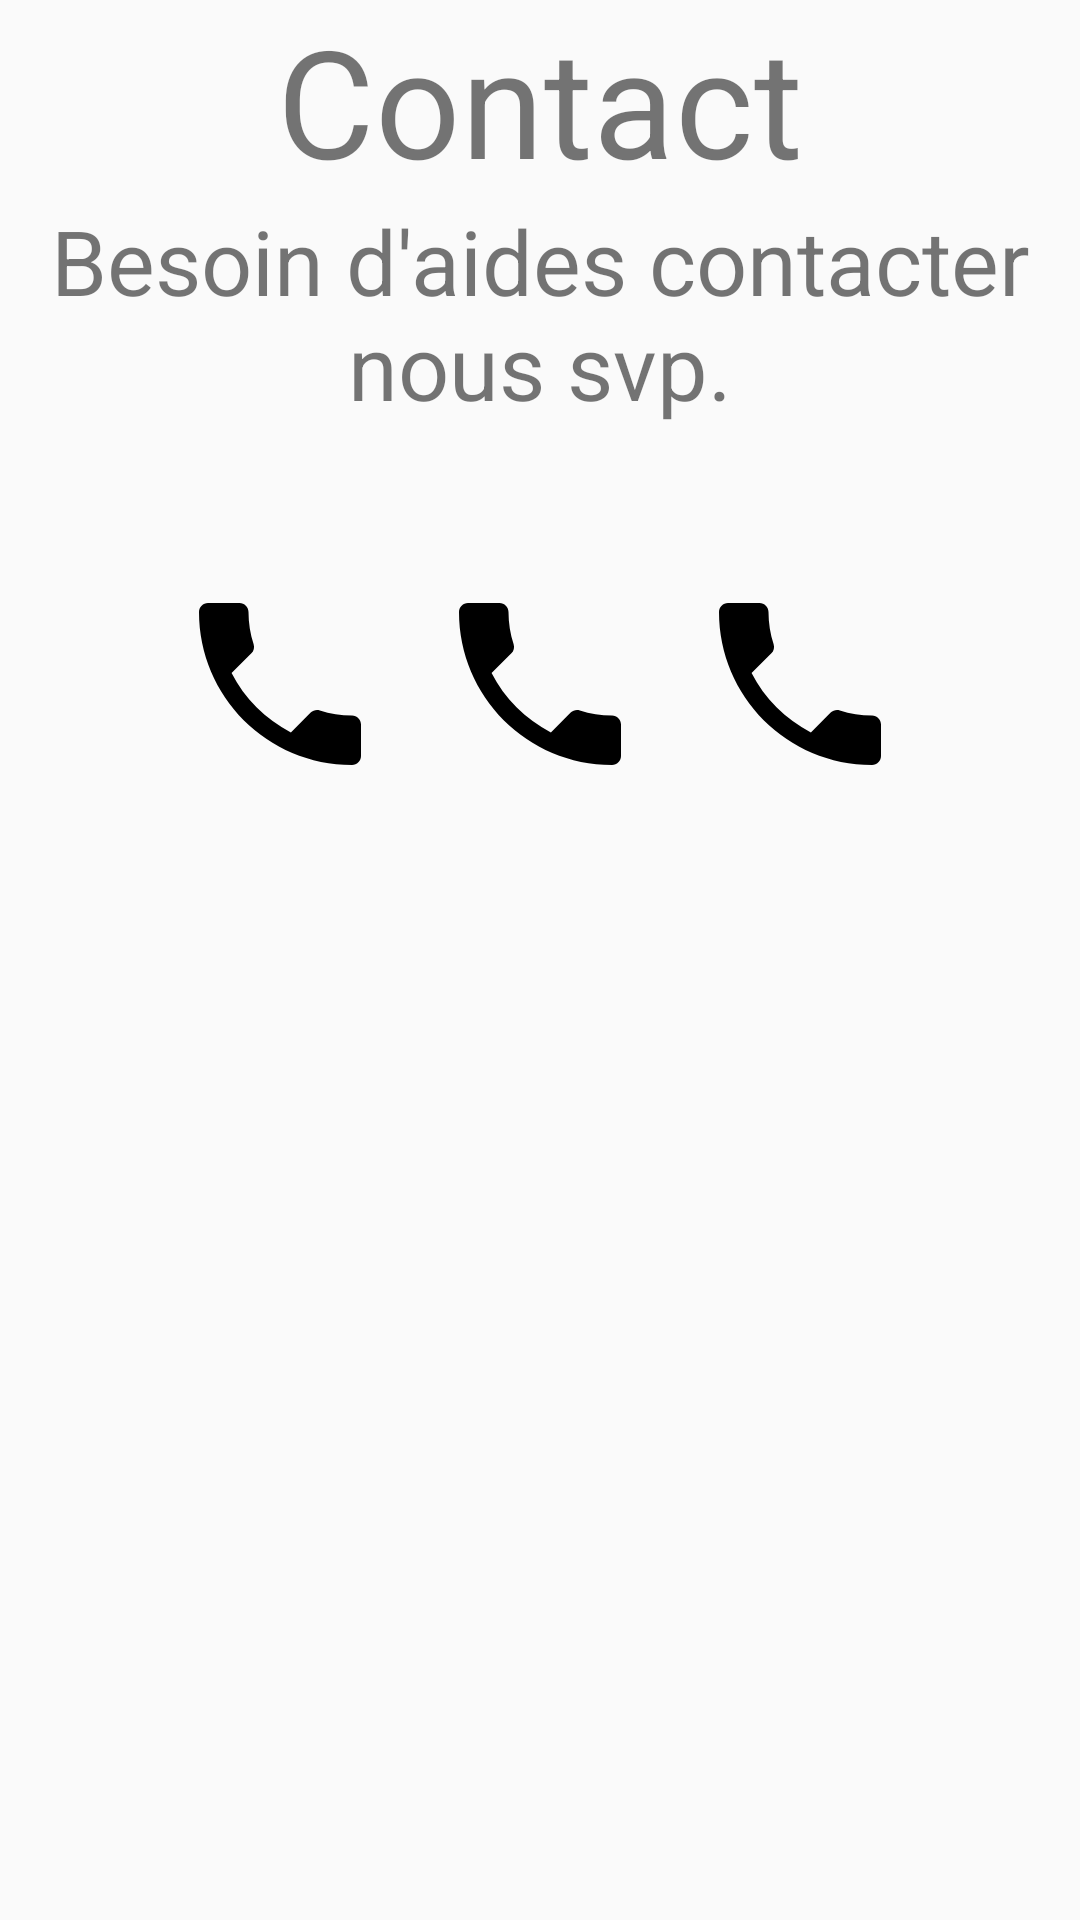

Point at icon controls on the screen. Image size 1080 × 1920, points as (x,y).
phone: (280,684), (540,684), (800,684)
